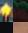torchT: (0, 0, 13, 22)
tree: (13, 0, 28, 20)
